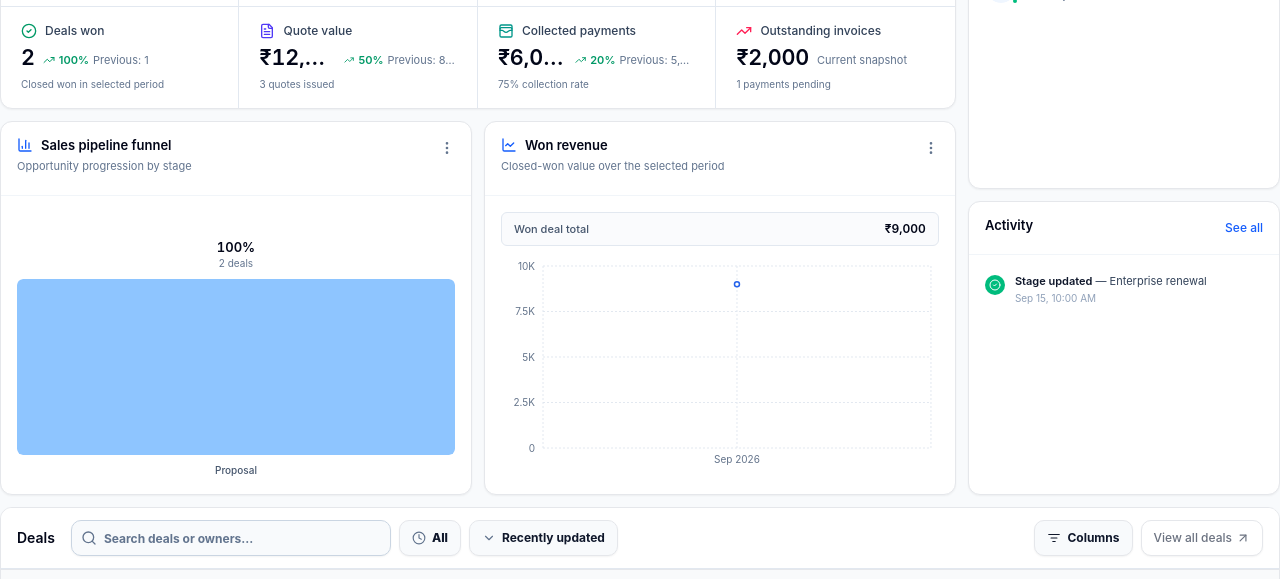
DashboardView › filters the deals preview
Type "missing" into the field with placeholder "Search deals or owners..." at (231, 538), box [71, 520, 391, 556]
(page scrolled)
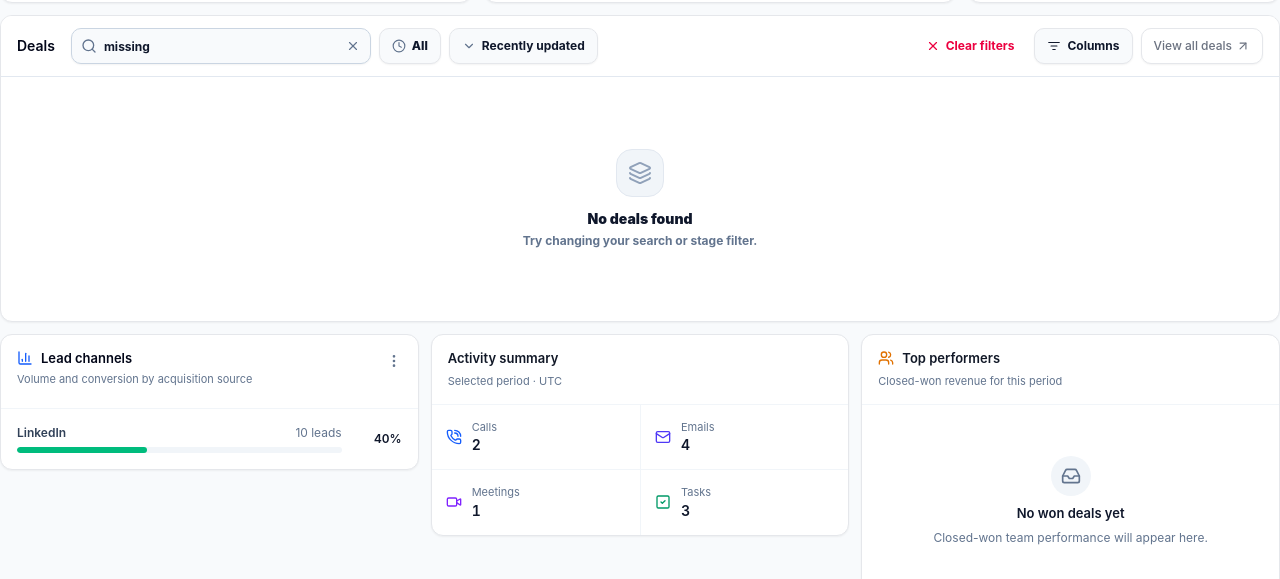
Expected: the heading "No deals found" is shown, [587, 209, 693, 229]
